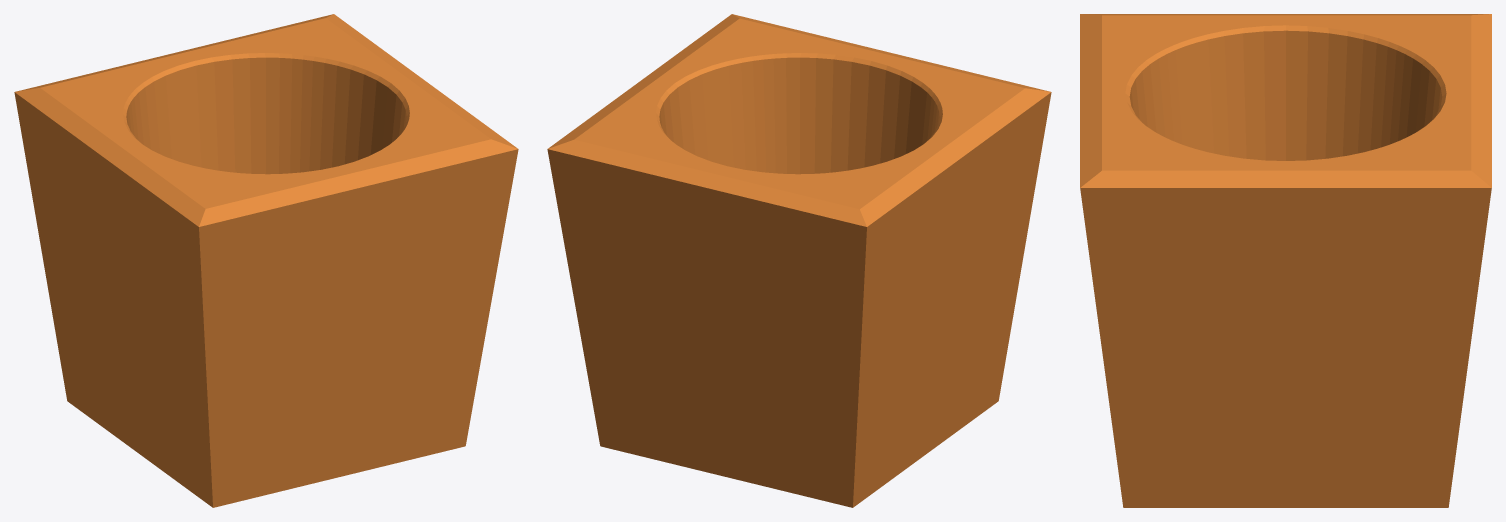
File: golf_cup.glb
3 views of the same model, side by side, from view 1: azimuth 30°, elevation 25°; view 2: azimuth 150°, elevation 25°; view 3: azimuth 270°, elevation 25° (orthographic). The views are drawn at different scales.
Parts seen in each view (by area): view 1: cup; view 2: cup; view 3: cup.
Part boxes in pixels (x1=…): cup: x1=14, y1=14, x2=518, y2=507; cup: x1=547, y1=14, x2=1051, y2=507; cup: x1=1080, y1=14, x2=1491, y2=507.
Size of the model in its own units: 2.23 by 2.07 by 2.23.
